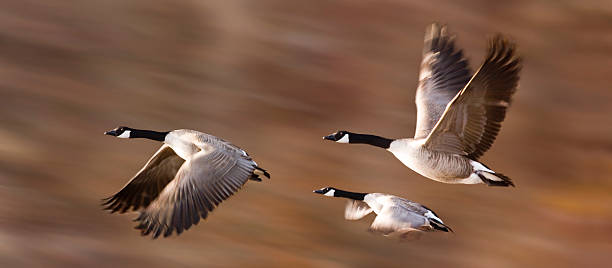goose: (320, 21, 519, 190), (99, 124, 273, 241), (310, 184, 456, 244)
